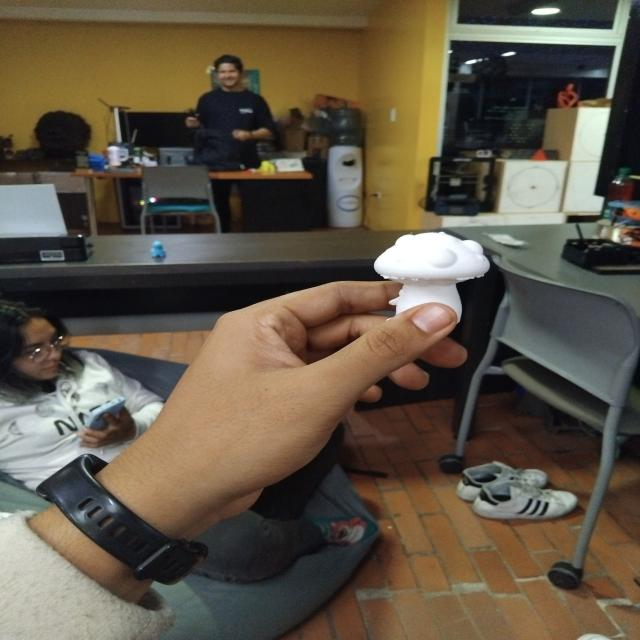Hongo: (363, 222, 488, 320)
